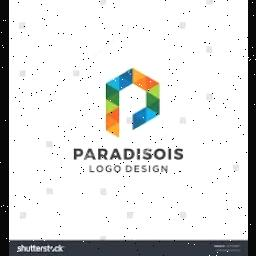a: (82, 148, 96, 162)
d: (122, 146, 134, 162)
i: (136, 146, 140, 162)
o: (152, 146, 166, 162)
p: (71, 146, 83, 162)
r: (96, 147, 108, 161)
s: (141, 148, 153, 162)
